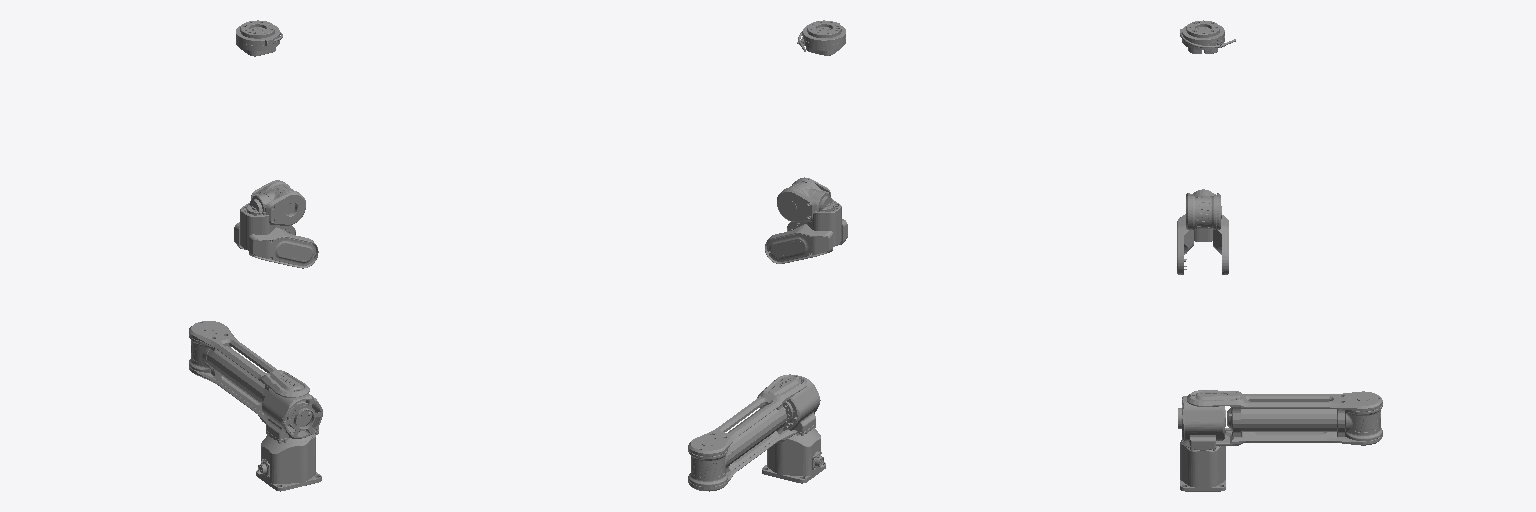
The robot description file, URDF, robot "hex_ros_ik_saber_750d":
<?xml version="1.0" encoding="utf-8"?>
<robot name="hex_ros_ik_saber_750d">
    <link name="base_link">
        <inertial>
            <origin xyz="0.004019 2.7e-05 0.055832" rpy="0 0 0" />
            <mass value="1.075" />
            <inertia ixx="0.000942" ixy="-1e-06" ixz="-5.4e-05"
                     iyy="0.001063" iyz="0.0" izz="0.001057" />
        </inertial>
        <visual>
            <origin xyz="0 0 0" rpy="0 0 0" />
            <geometry>
                <mesh filename="package://hex_ros_ik_saber_750d/urdf/meshes/base_link.STL" />
            </geometry>
            <material name="">
                <color rgba="0.6 0.6 0.6 1" />
            </material>
        </visual>
        <collision>
            <origin xyz="0 0 0" rpy="0 0 0" />
            <geometry>
                <mesh filename="package://hex_ros_ik_saber_750d/urdf/meshes/base_link.STL" />
            </geometry>
        </collision>
    </link>
  
    <link name="link_1">
        <inertial>
            <origin xyz="0.040438 -6.9e-05 0.010724" rpy="0 0 0" />
            <mass value="1.04678" />
            <inertia ixx="0.000887" ixy="-3e-06" ixz="-2.8e-05"
                     iyy="0.000925" iyz="-1e-06" izz="0.000957" />
        </inertial>
        <visual>
            <origin xyz="0 0 0" rpy="0 0 0" />
            <geometry>
                <mesh filename="package://hex_ros_ik_saber_750d/urdf/meshes/link_1.STL" />
            </geometry>
            <material name="">
                <color rgba="0.6 0.6 0.6 1" />
            </material>
        </visual>
        <collision>
            <origin xyz="0 0 0" rpy="0 0 0" />
            <geometry>
                <mesh filename="package://hex_ros_ik_saber_750d/urdf/meshes/link_1.STL" />
            </geometry>
        </collision>
    </link>
    <joint name="joint_1" type="revolute">
        <origin xyz="0.0075 0 0.0895" rpy="1.5707963268 -1.5707963268 3.14159265359" />
        <parent link="base_link" />
        <child link="link_1" />
        <axis xyz="1 0 0" />
        <limit effort="40.0" lower="-2.9670597283903604" upper="2.9670597283903604" velocity="1.0"/>
        <dynamics damping="20" friction="2"/>
    </joint>

    <link name="link_2">
        <inertial>
            <origin xyz="0.000984 0.222985 -0.004782" rpy="0 0 0" />
            <mass value="1.366628" />
            <inertia ixx="0.020238" ixy="1.6e-05" ixz="-5e-06"
                     iyy="0.001281" iyz="0.000251" izz="0.019949" />
        </inertial>
        <visual>
            <origin xyz="0 0 0" rpy="0 0 0" />
            <geometry>
                <mesh filename="package://hex_ros_ik_saber_750d/urdf/meshes/link_2.STL" />
            </geometry>
            <material name="">
                <color rgba="0.6 0.6 0.6 1" />
            </material>
        </visual>
        <collision>
            <origin xyz="0 0 0" rpy="0 0 0" />
            <geometry>
                <mesh filename="package://hex_ros_ik_saber_750d/urdf/meshes/link_2.STL" />
            </geometry>
        </collision>
    </link>
    <joint name="joint_2" type="revolute">
        <origin xyz="0.043 0 0" rpy="0 0 -1.5707963268" />
        <parent link="link_1" />
        <child link="link_2" />
        <axis xyz="0 0 1" />
        <limit effort="40.0" lower="-1.5707963268" upper="1.5707963268" velocity="1.0"/>
        <dynamics damping="20" friction="2"/>
    </joint>

    <link name="link_3">
        <inertial>
            <origin xyz="0.049502 0.062515 -0.001177" rpy="0 0 0" />
            <mass value="0.802284" />
            <inertia ixx="0.001075" ixy="-0.000337" ixz="-4e-05"
                     iyy="0.001131" iyz="-5e-05" izz="0.001304" />
        </inertial>
        <visual>
            <origin xyz="0 0 0" rpy="0 0 0" />
            <geometry>
                <mesh filename="package://hex_ros_ik_saber_750d/urdf/meshes/link_3.STL" />
            </geometry>
            <material name="">
                <color rgba="0.6 0.6 0.6 1" />
            </material>
        </visual>
        <collision>
            <origin xyz="0 0 0" rpy="0 0 0" />
            <geometry>
                <mesh filename="package://hex_ros_ik_saber_750d/urdf/meshes/link_3.STL" />
            </geometry>
        </collision>
    </link>
    <joint name="joint_3" type="revolute">
        <origin xyz="0 0.3268 0" rpy="3.14159265359 0 1.5707963268" />
        <parent link="link_2" />
        <child link="link_3" />
        <axis xyz="0 0 -1" />
        <limit effort="40.0" lower="-1.0471975512" upper="3.14159265359" velocity="1.0"/>
        <dynamics damping="20" friction="2"/>
    </joint>

    <link name="link_4">
        <inertial>
            <origin xyz="0.16487 -0.006083 -0.001694" rpy="0 0 0" />
            <mass value="0.907814" />
            <inertia ixx="0.000563" ixy="0.000225" ixz="-9.1e-05"
                     iyy="0.004529" iyz="1e-05" izz="0.004594" />
        </inertial>
        <visual>
            <origin xyz="0 0 0" rpy="0 0 0" />
            <geometry>
                <mesh filename="package://hex_ros_ik_saber_750d/urdf/meshes/link_4.STL" />
            </geometry>
            <material name="">
                <color rgba="0.6 0.6 0.6 1" />
            </material>
        </visual>
        <collision>
            <origin xyz="0 0 0" rpy="0 0 0" />
            <geometry>
                <mesh filename="package://hex_ros_ik_saber_750d/urdf/meshes/link_4.STL" />
            </geometry>
        </collision>
    </link>
    <joint name="joint_4" type="revolute">
        <origin xyz="0.08847 0.072 -7.0034E-05" rpy="1.5707963268 0 0" />
        <parent link="link_3" />
        <child link="link_4" />
        <axis xyz="1 0 0" />
        <limit effort="40.0" lower="-2.79252680319" upper="2.79252680319" velocity="1.0"/>
        <dynamics damping="20" friction="2"/>
    </joint>

    <link name="link_5">
        <inertial>
            <origin xyz="0.078713 0.000365 0.003515" rpy="0 0 0" />
            <mass value="0.66461" />
            <inertia ixx="0.000417" ixy="1e-06" ixz="0.00012"
                     iyy="0.000725" iyz="-3e-06" izz="0.000665" />
        </inertial>
        <visual>
            <origin xyz="0 0 0" rpy="0 0 0" />
            <geometry>
                <mesh filename="package://hex_ros_ik_saber_750d/urdf/meshes/link_5.STL" />
            </geometry>
            <material name="">
                <color rgba="0.6 0.6 0.6 1" />
            </material>
        </visual>
        <collision>
            <origin xyz="0 0 0" rpy="0 0 0" />
            <geometry>
                <mesh filename="package://hex_ros_ik_saber_750d/urdf/meshes/link_5.STL" />
            </geometry>
        </collision>
    </link>
    <joint name="joint_5" type="revolute">
        <origin xyz="0.206 0 0" rpy="1.5707963268 0 0" />
        <parent link="link_4" />
        <child link="link_5" />
        <axis xyz="0 0 1" />
        <limit effort="40.0" lower="-1.5707963268" upper="1.5707963268" velocity="1.0"/>
        <dynamics damping="20" friction="2"/>
    </joint>

    <link name="link_6">
        <inertial>
            <origin xyz="0.000752 8.5e-05 0.024275" rpy="0 0 0" />
            <mass value="0.0" />
            <inertia ixx="0.0" ixy="0.0" ixz="0.0"
                     iyy="0.0" iyz="0.0" izz="0.0" />
        </inertial>
        <visual>
            <origin xyz="0 0 0" rpy="0 0 0" />
            <geometry>
                <mesh filename="package://hex_ros_ik_saber_750d/urdf/meshes/link_6.STL" />
            </geometry>
            <material name="">
                <color rgba="0.6 0.6 0.6 1" />
            </material>
        </visual>
        <collision>
            <origin xyz="0 0 0" rpy="0 0 0" />
            <geometry>
                <mesh filename="package://hex_ros_ik_saber_750d/urdf/meshes/link_6.STL" />
            </geometry>
        </collision>
    </link>
    <joint name="joint_6" type="revolute">
        <origin xyz="0.11 0 0" rpy="1.5707963268 0.0 1.5707963268" />
        <parent link="link_5" />
        <child link="link_6" />
        <axis xyz="0 0 1" />
        <limit effort="40.0" lower="-2.9670597283903604" upper="2.9670597283903604" velocity="1.0"/>
        <dynamics damping="20" friction="2"/>
    </joint>
</robot>

--- What the picture shows (computed from the rendered views, not written in the file) ---
The picture shows the robot from 3 angles, left to right: view 1: azimuth 30°, elevation 25°; view 2: azimuth 150°, elevation 25°; view 3: azimuth 270°, elevation 25°; orthographic projection.
Robot: hex_ros_ik_saber_750d — 7 links, 6 joints (6 revolute); root link base_link; default pose: all joints at 0.
Visible links, largest first — view 1: link_2, link_3, base_link, link_1, link_4, link_6; view 2: link_2, link_3, base_link, link_4, link_1, link_6; view 3: link_2, base_link, link_1, link_3, link_4, link_6.
Boxes of the visible links, x1=… form: link_2: x1=189, y1=321, x2=309, y2=434; link_3: x1=234, y1=203, x2=318, y2=268; base_link: x1=256, y1=433, x2=321, y2=491; link_1: x1=262, y1=389, x2=322, y2=443; link_4: x1=249, y1=180, x2=305, y2=225; link_6: x1=236, y1=20, x2=282, y2=56; link_2: x1=688, y1=374, x2=806, y2=491; link_3: x1=765, y1=199, x2=847, y2=263; base_link: x1=762, y1=428, x2=825, y2=483; link_4: x1=777, y1=177, x2=832, y2=221; link_1: x1=760, y1=376, x2=820, y2=435; link_6: x1=797, y1=20, x2=845, y2=55; link_2: x1=1187, y1=390, x2=1382, y2=446; base_link: x1=1180, y1=440, x2=1225, y2=491; link_1: x1=1178, y1=396, x2=1225, y2=450; link_3: x1=1177, y1=214, x2=1228, y2=274; link_4: x1=1186, y1=189, x2=1221, y2=229; link_6: x1=1180, y1=20, x2=1235, y2=53.
Bounding box of the posed robot: 0.1542 × 0.3845 × 0.9068 m (x, y, z).
6 mesh visuals loaded from 7 distinct referenced files (6 binary STL); not drawn: 1 (reference not matched to a file when rendering).
